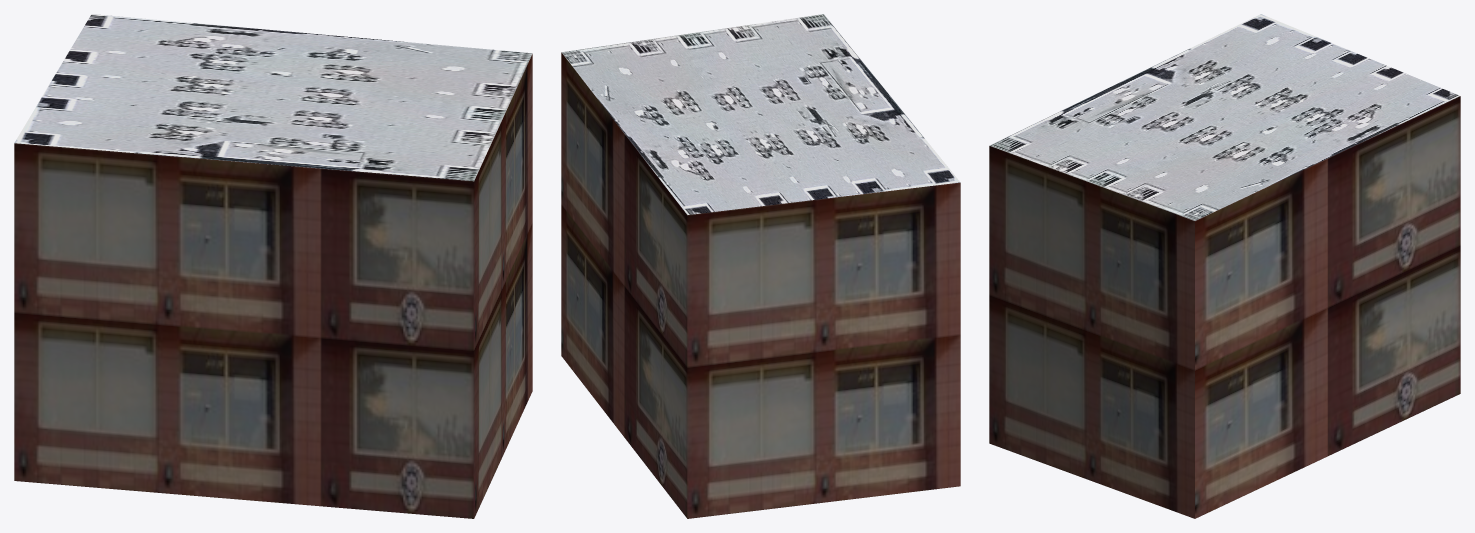
The model's file is ResTex__2532.fbx.
The picture shows the model from 3 angles, left to right: view 1: azimuth 30°, elevation 25°; view 2: azimuth 150°, elevation 25°; view 3: azimuth 270°, elevation 25°; orthographic projection. The views are drawn at different scales.
Parts seen in each view (by area): view 1: CityEngineMaterial_13_m, CityEngineMaterial_2_m; view 2: CityEngineMaterial_13_m, CityEngineMaterial_2_m; view 3: CityEngineMaterial_13_m, CityEngineMaterial_2_m.
Boxes of the visible parts, x1,y1,x2,y2 form: CityEngineMaterial_13_m: (14,54,532,518); CityEngineMaterial_2_m: (14,14,532,181); CityEngineMaterial_13_m: (561,52,960,518); CityEngineMaterial_2_m: (562,14,960,214); CityEngineMaterial_13_m: (989,96,1460,518); CityEngineMaterial_2_m: (990,14,1459,220).
Bounding box in the file's own units: 8.94 × 6 × 8.6.
Materials: 2 (2 with a texture image).
